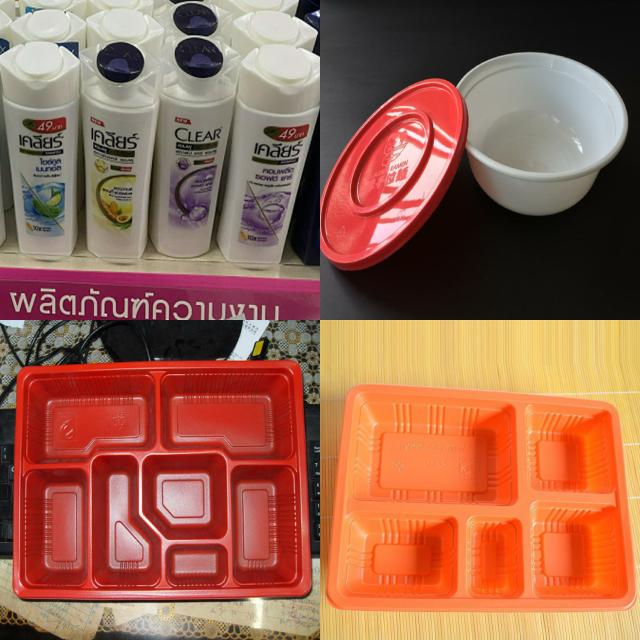HDPE Plastic: (218, 44, 320, 264), (150, 36, 240, 258), (80, 41, 160, 258), (0, 41, 80, 256)
Single-Use-Plastic: (15, 361, 311, 599), (328, 385, 634, 611), (321, 80, 468, 269), (458, 52, 628, 215)
